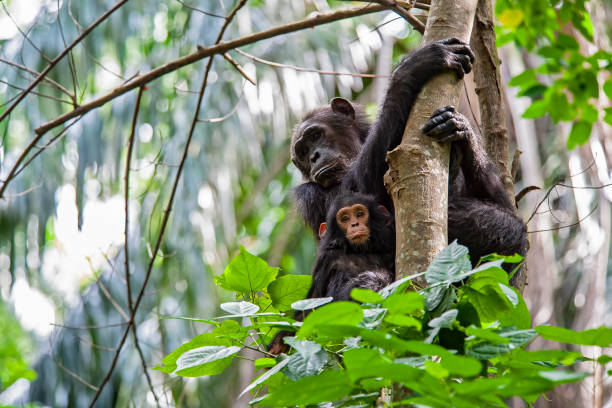chimpanzee: (276, 88, 359, 186), (311, 188, 392, 262)
